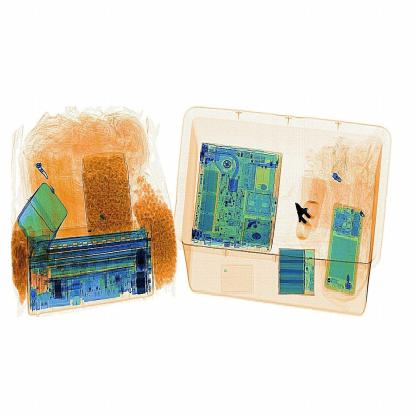gun: (286, 187, 328, 244)
